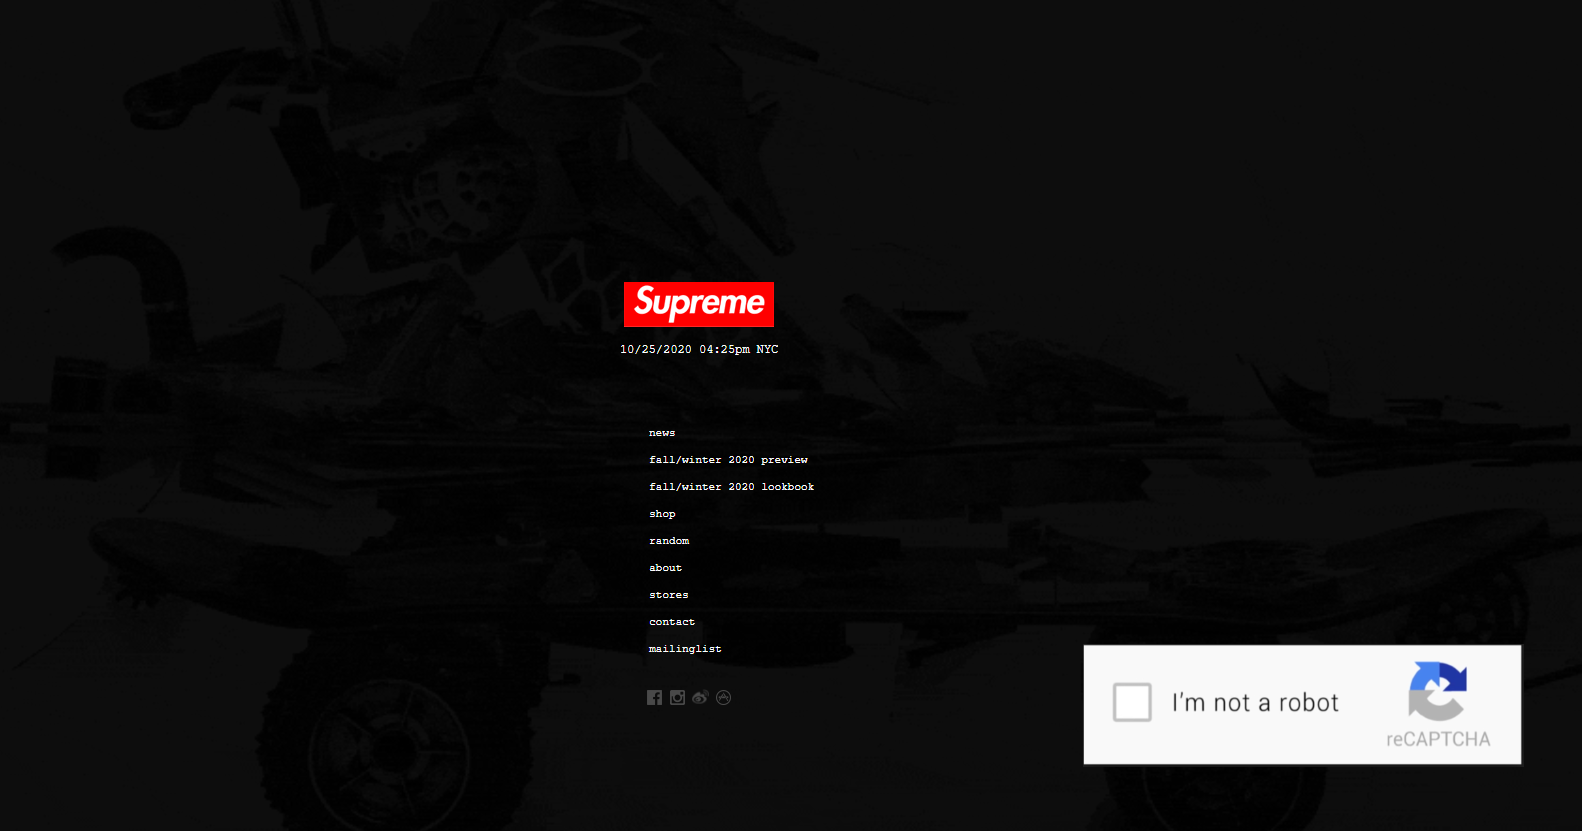captcha: (1075, 638, 1542, 780)
